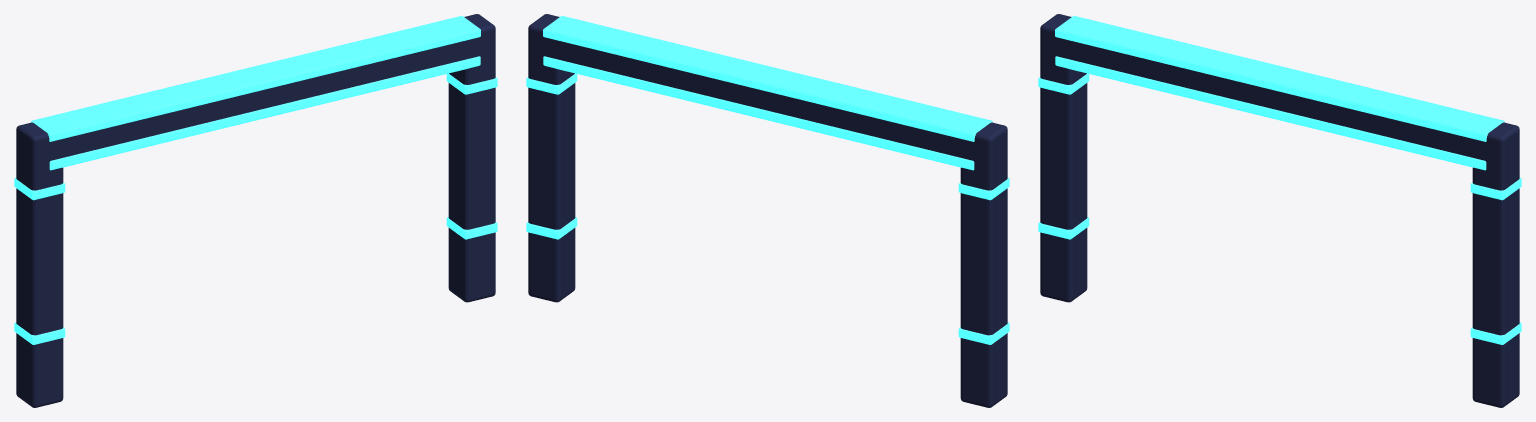
File: gate.glb
3 views of the same model, side by side, from view 1: azimuth 30°, elevation 25°; view 2: azimuth 150°, elevation 25°; view 3: azimuth 330°, elevation 25° (orthographic).
Visible parts, largest first — view 1: Pillar, ArchGlowTop, Pillar.001, ArchTop, ArchGlow, PillarGlow, PillarGlow2, PillarGlow2.001, PillarGlow.001; view 2: Pillar, ArchGlowTop, Pillar.001, ArchTop, ArchGlow, PillarGlow, PillarGlow2, PillarGlow2.001, PillarGlow.001; view 3: Pillar.001, ArchGlowTop, Pillar, ArchTop, ArchGlow, PillarGlow2, PillarGlow.001, PillarGlow2.001, PillarGlow.
Boxes of the visible parts, x1,y1,x2,y2 form: Pillar: (16, 122, 63, 407); ArchGlowTop: (31, 16, 480, 141); Pillar.001: (448, 14, 495, 302); ArchTop: (16, 14, 495, 171); ArchGlow: (49, 56, 480, 170); PillarGlow: (14, 177, 65, 200); PillarGlow2: (14, 322, 65, 344); PillarGlow2.001: (446, 217, 497, 239); PillarGlow.001: (446, 73, 497, 94); Pillar: (960, 122, 1007, 407); ArchGlowTop: (543, 16, 992, 141); Pillar.001: (528, 14, 575, 302); ArchTop: (528, 14, 1007, 171); ArchGlow: (543, 56, 974, 170); PillarGlow: (958, 177, 1009, 200); PillarGlow2: (958, 322, 1009, 344); PillarGlow2.001: (526, 217, 577, 239); PillarGlow.001: (526, 73, 577, 94); Pillar.001: (1472, 122, 1519, 407); ArchGlowTop: (1055, 16, 1504, 141); Pillar: (1040, 14, 1087, 302); ArchTop: (1040, 14, 1519, 171); ArchGlow: (1055, 56, 1486, 170); PillarGlow2: (1038, 217, 1089, 239); PillarGlow.001: (1470, 177, 1521, 200); PillarGlow2.001: (1470, 322, 1521, 344); PillarGlow: (1038, 73, 1089, 94).
Size of the model in its own units: 8.08 by 4.51 by 0.58.
